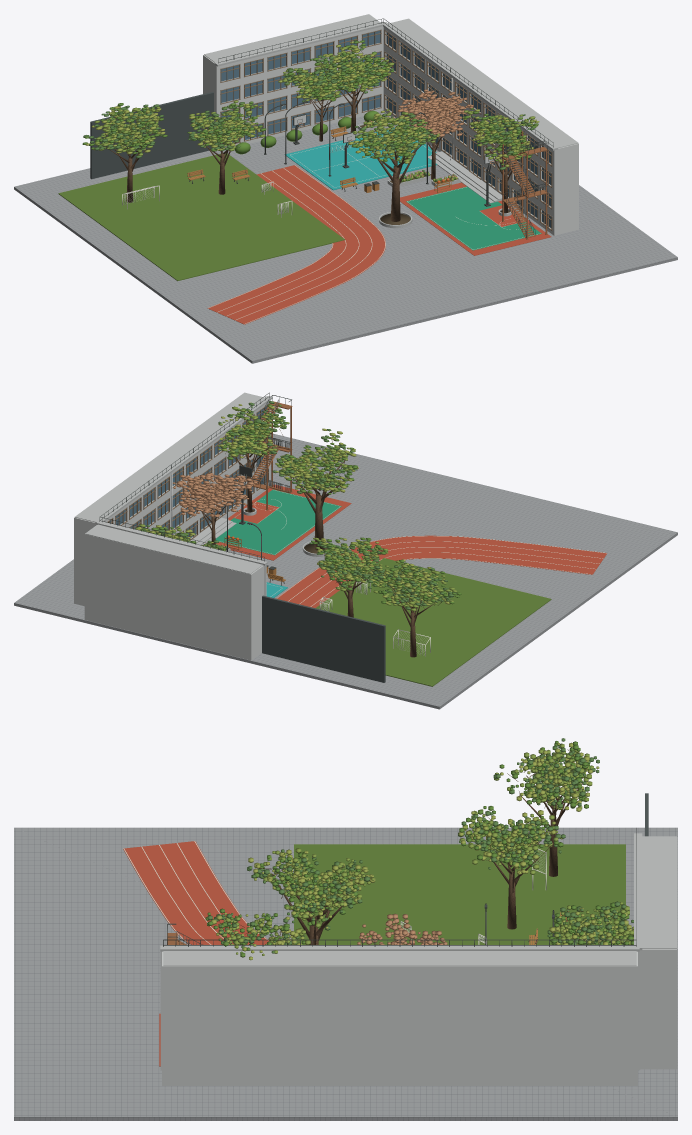
The model's file is campus-courtyard.glb.
The picture shows the model from 3 angles, top to bottom: view 1: azimuth 30°, elevation 25°; view 2: azimuth 150°, elevation 25°; view 3: azimuth 270°, elevation 25°; orthographic projection. The views are drawn at different scales.
Parts seen in each view (by area): view 1: SITE-PAVERS, LAWN-L, BLD-B-SHELL, TRACK-ARC, BLD-A-SHELL, BACKDROP-WEST-FRAGMENT, COURT-E-IN, COURT-NE, TREE-01, TREE-06, TREE-02, TREE-05 (+6 smaller); view 2: SITE-PAVERS, BLD-A-SHELL, LAWN-L, BLD-B-SHELL, BACKDROP-WEST-FRAGMENT, TRACK-ARC, TREE-01, COURT-E-IN, TREE-06, TREE-02, TREE-04, TREE-05 (+4 smaller); view 3: SITE-PAVERS, BLD-B-SHELL, LAWN-L, BLD-A-SHELL, TRACK-ARC, TREE-01, TREE-02, TREE-06, TREE-05, TREE-07, BLD-B-ROOF-RAIL, TREE-03 (+1 smaller).
Part boxes in pixels (box(x1,y1,x2,y2)): SITE-PAVERS: box(14, 112, 677, 363); LAWN-L: box(58, 153, 344, 281); BLD-B-SHELL: box(383, 18, 578, 235); TRACK-ARC: box(207, 165, 385, 324); BLD-A-SHELL: box(203, 14, 385, 151); BACKDROP-WEST-FRAGMENT: box(90, 92, 213, 179); COURT-E-IN: box(406, 186, 541, 250); COURT-NE: box(284, 127, 437, 190); TREE-01: box(348, 109, 440, 221); TREE-06: box(82, 103, 167, 202); TREE-02: box(187, 100, 266, 194); TREE-05: box(462, 108, 539, 213); SITE-PAVERS: box(14, 433, 677, 709); BLD-A-SHELL: box(84, 520, 267, 660); LAWN-L: box(315, 558, 551, 686); BLD-B-SHELL: box(74, 392, 272, 605); BACKDROP-WEST-FRAGMENT: box(262, 595, 385, 682); TRACK-ARC: box(276, 535, 607, 607); TREE-01: box(272, 428, 358, 550); COURT-E-IN: box(215, 489, 341, 555); TREE-06: box(367, 559, 461, 657); TREE-02: box(309, 537, 388, 617); TREE-04: box(172, 472, 257, 544); TREE-05: box(217, 401, 289, 512); SITE-PAVERS: box(14, 827, 677, 1120); BLD-B-SHELL: box(160, 945, 639, 1085); LAWN-L: box(294, 844, 625, 944); BLD-A-SHELL: box(634, 833, 677, 1069); TRACK-ARC: box(123, 841, 269, 944); TREE-01: box(247, 848, 375, 944); TREE-02: box(458, 806, 565, 929); TREE-06: box(493, 738, 599, 876); TREE-05: box(205, 902, 310, 960); TREE-07: box(553, 901, 633, 944); BLD-B-ROOF-RAIL: box(163, 939, 636, 946); TREE-03: box(547, 919, 633, 944).
Size of the model in its own units: 66 by 15.62 by 64.
Materials: 25 (2 with a texture image).
